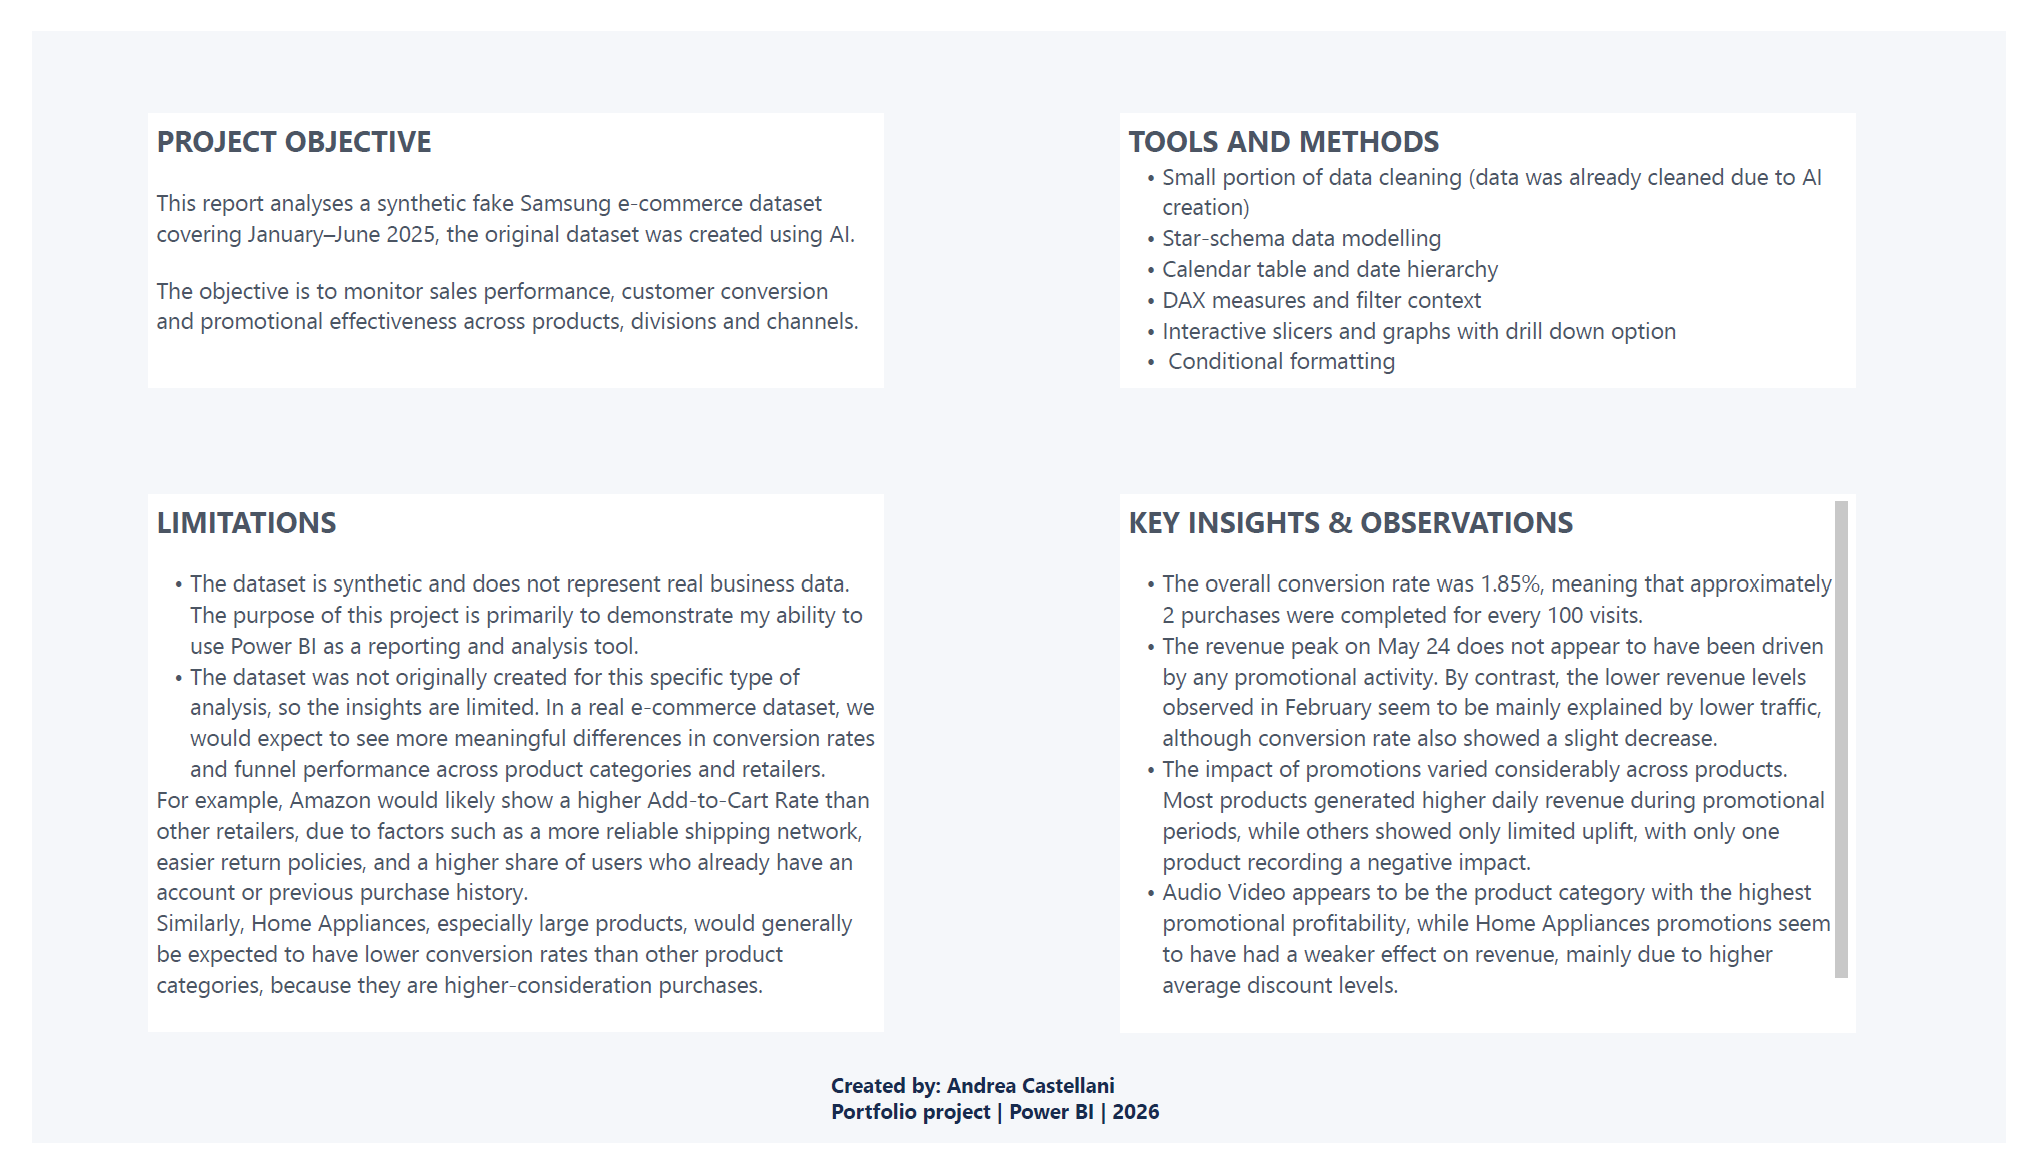

The dashboard page shown, as its layout file describes it:
{"tool":"powerbi","page":{"name":"About this report","canvas":[1280,720],"ordinal":3},"visuals":[{"type":"textbox","box":[75.3,53.1,476.5,177.8],"z":0},{"type":"textbox","box":[706.2,53.1,476.5,177.8],"z":1000},{"type":"textbox","box":[75.3,300,476.5,348.1],"z":2000},{"type":"textbox","box":[706.2,300,476.5,349.4],"z":3000},{"type":"textbox","box":[512.5,669.3,235.9,51],"z":4000}]}

Visuals, with their boxes in screenshot pixels (x1, y1, x2, y2), scaled from the page's 1280x720 canvas onto the 2036x1172 screenshot:
textbox: 120,86,878,376
textbox: 1123,86,1881,376
textbox: 120,488,878,1055
textbox: 1123,488,1881,1057
textbox: 815,1089,1190,1171
